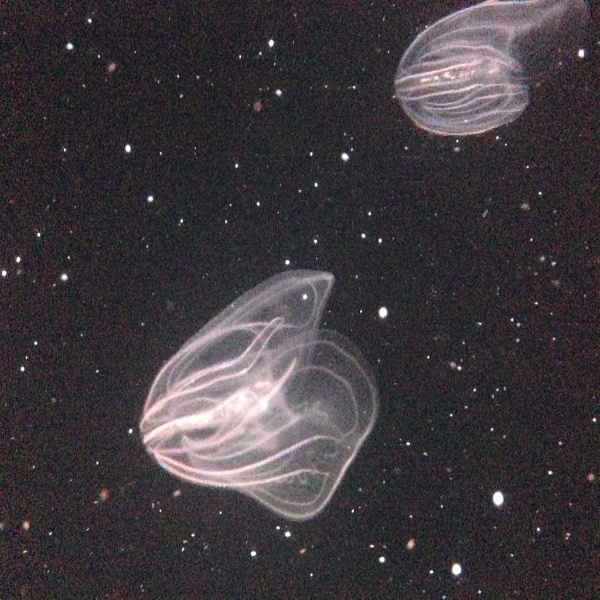Jellyfish: (128, 268, 387, 527), (393, 0, 589, 136)
